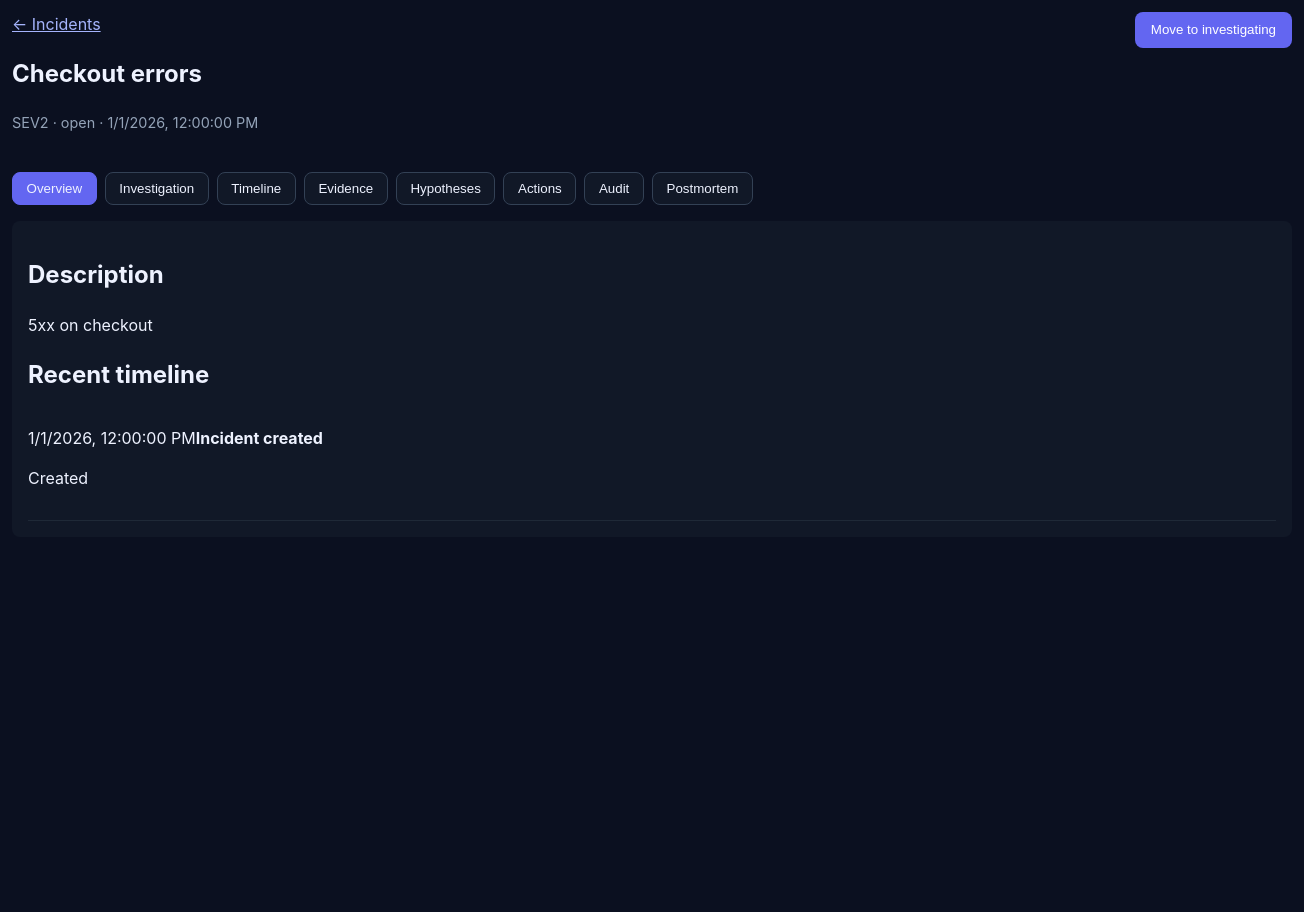
Test: IncidentDetail tabs › shows investigation panel when investigation tab selected
Expected: the heading "Checkout errors" is shown, [12,59,202,88]
Click the button "Investigation" at (157, 188), box [105,172,209,205]
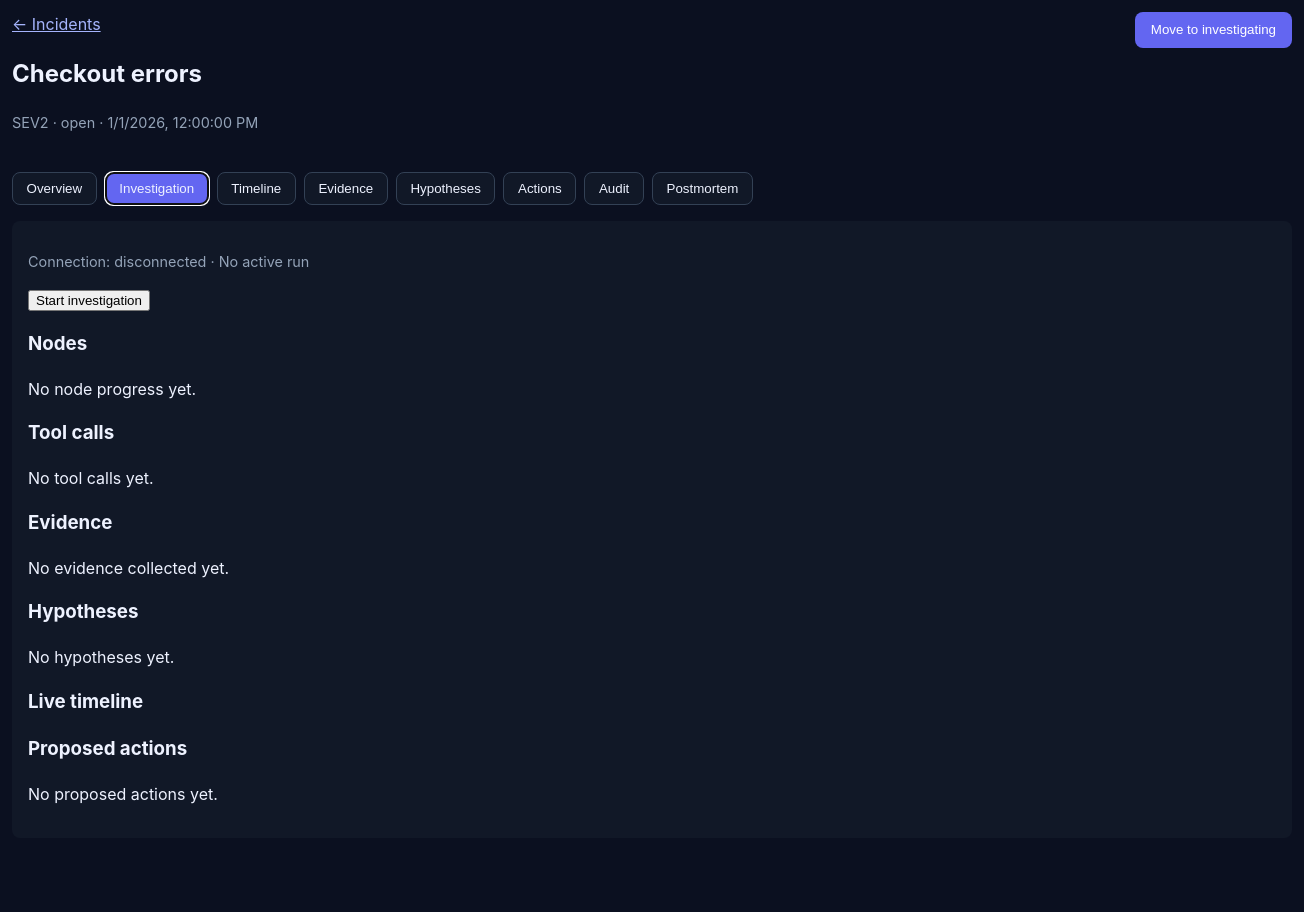
Expected: the text "Connection: disconnected · No active run" is shown, [28,253,309,270]
